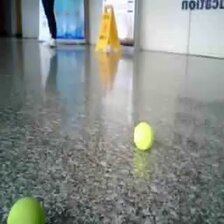tennis: (6, 197, 45, 224), (133, 122, 154, 150)
